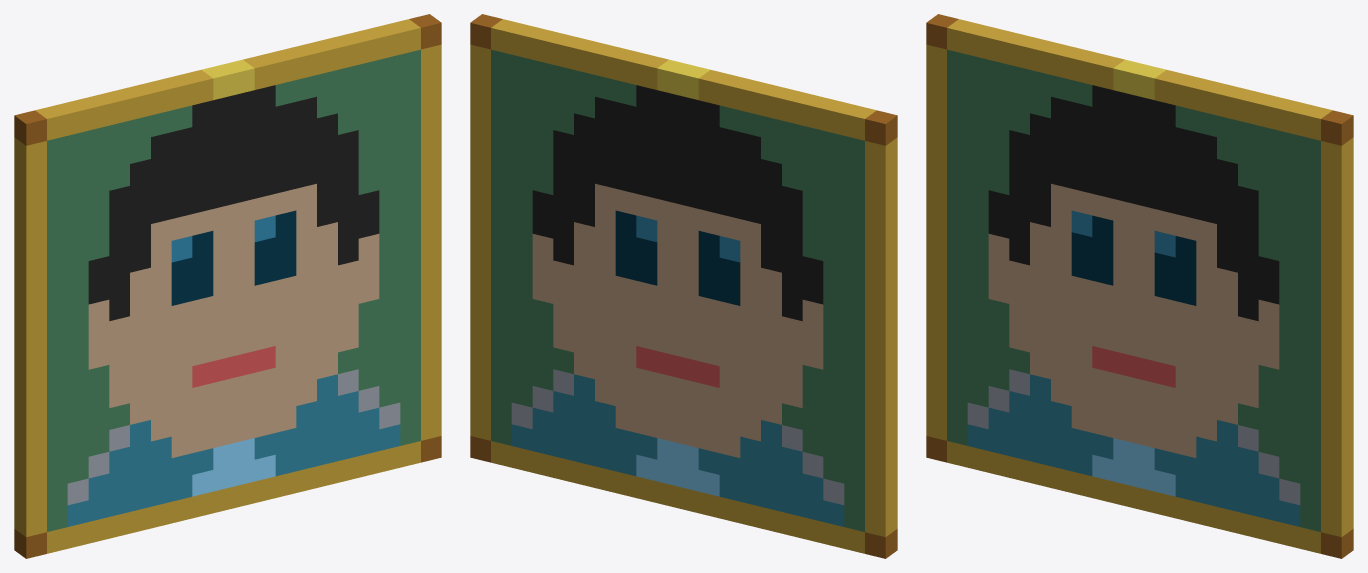
Rendered from portrait2.obj.
3 renders of one model, left to right at view 1: azimuth 30°, elevation 25°; view 2: azimuth 150°, elevation 25°; view 3: azimuth 330°, elevation 25°, orthographic.
Bounding box in the file's own units: 2 × 2 × 0.1.
Materials: 1 (1 with a texture image).
